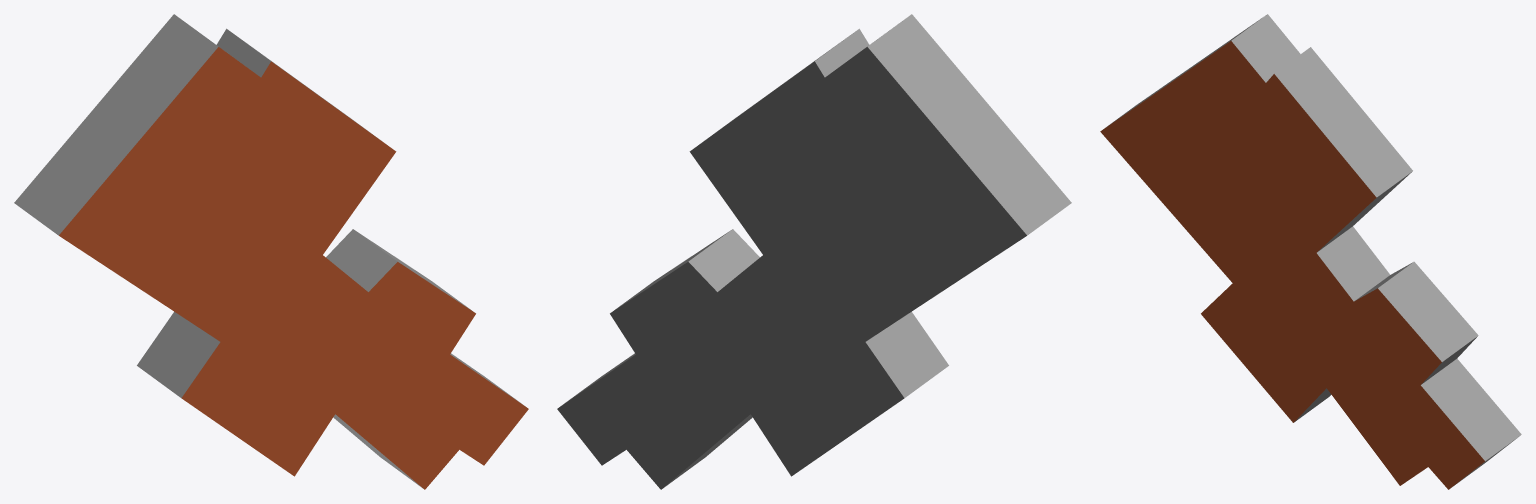
Rendered from construction_1273_assumed_A_Casa_h6m.obj.
3 renders of one model, left to right at view 1: azimuth 30°, elevation 25°; view 2: azimuth 150°, elevation 25°; view 3: azimuth 330°, elevation 25°, orthographic. The views are drawn at different scales.
Parts seen in each view (by area): view 1: construction_1273_assumed_A_Casa; view 2: construction_1273_assumed_A_Casa; view 3: construction_1273_assumed_A_Casa.
Boxes of the visible parts, x1,y1,x2,y2 form: construction_1273_assumed_A_Casa: (14,14,528,489); construction_1273_assumed_A_Casa: (557,14,1071,489); construction_1273_assumed_A_Casa: (1100,14,1521,489).
Size of the model in its own units: 36.47 by 36.57 by 6.
